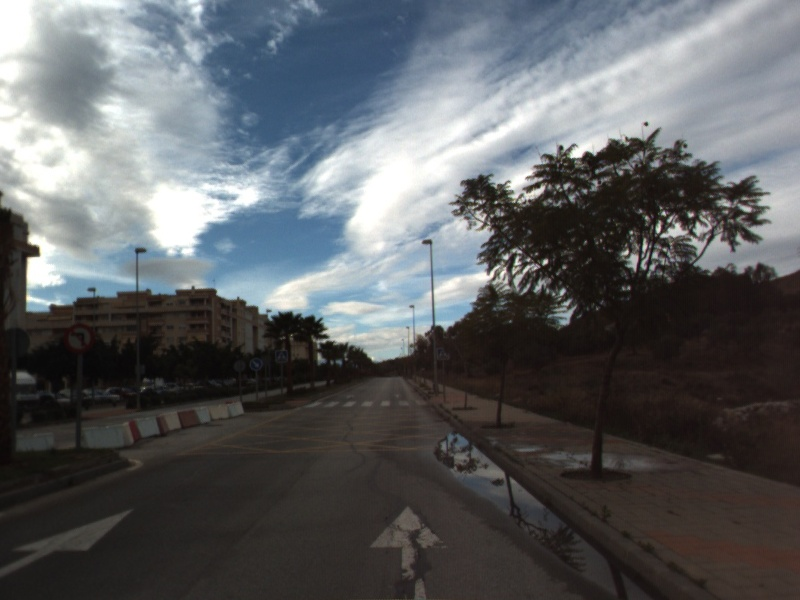STRAIGHT: (1, 507, 135, 579), (367, 503, 452, 600)
